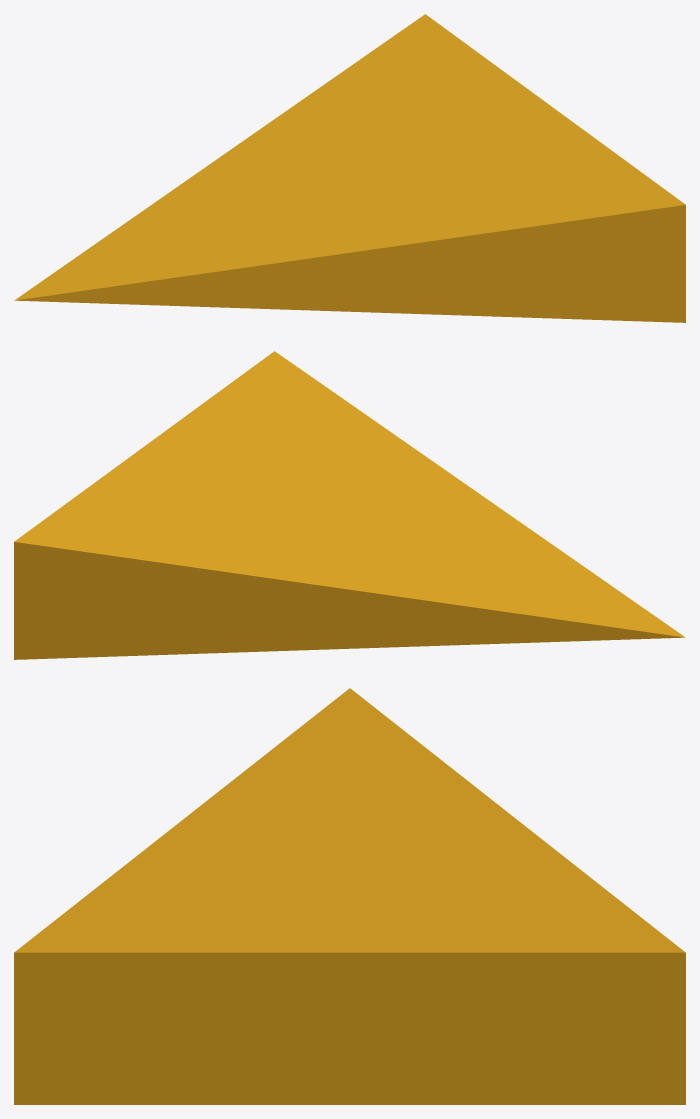
Rendered from arrow.fbx.
3 renders of one model, top to bottom at view 1: azimuth 30°, elevation 25°; view 2: azimuth 150°, elevation 25°; view 3: azimuth 270°, elevation 25°, orthographic. The views are drawn at different scales.
Visible parts, largest first — view 1: Cube; view 2: Cube; view 3: Cube.
Part boxes in pixels (x1=…): Cube: x1=14, y1=14, x2=685, y2=322; Cube: x1=14, y1=351, x2=685, y2=659; Cube: x1=14, y1=688, x2=685, y2=1104.
Size of the model in its own units: 24 by 5 by 20.
